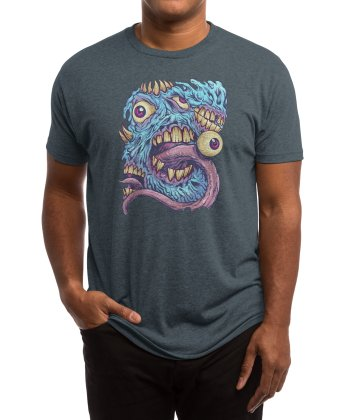design: (115, 77, 228, 218)
